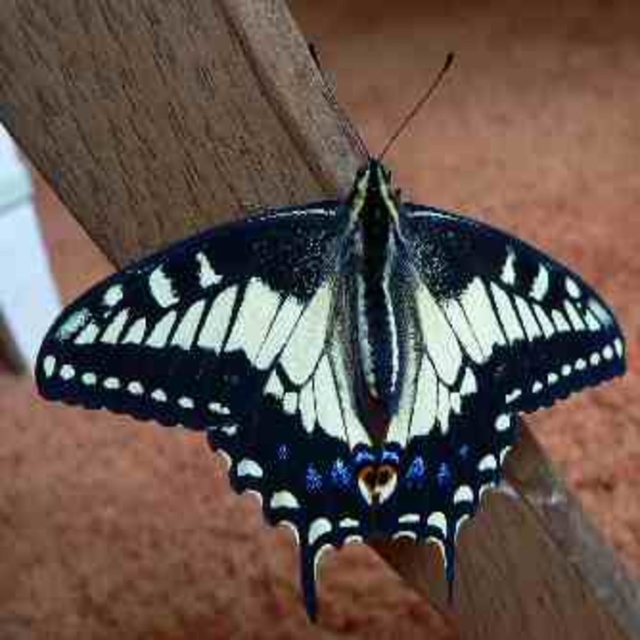Moths and butterflies: (29, 36, 632, 619)
